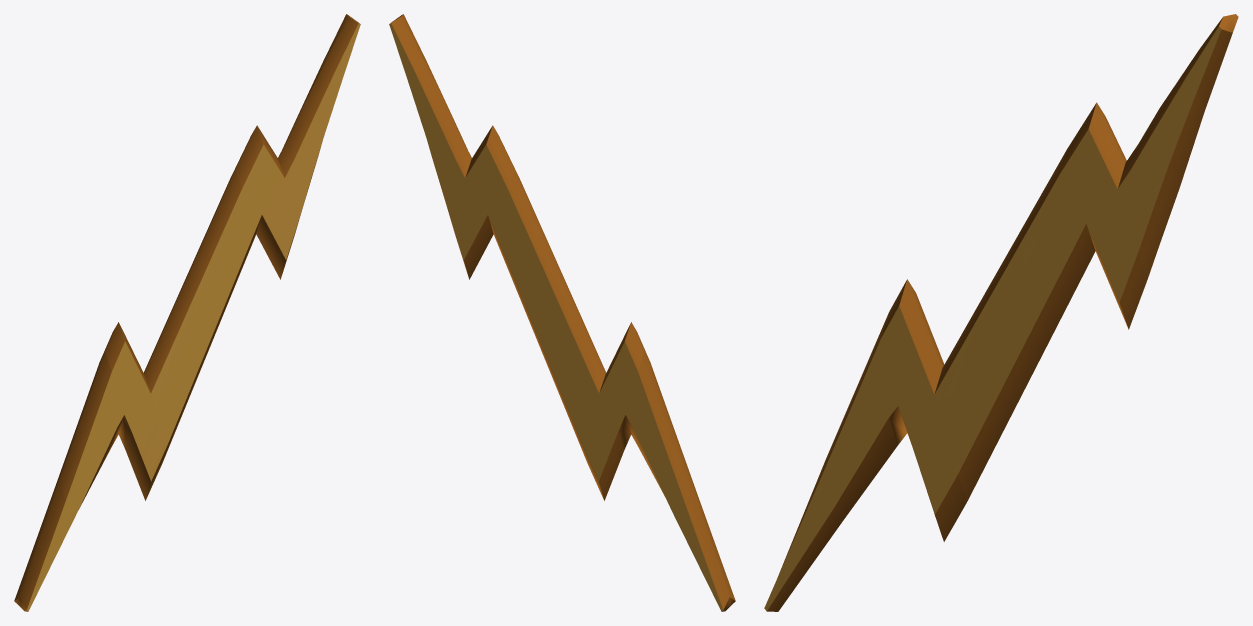
Rendered from Bolt.fbx.
The picture shows the model from 3 angles, left to right: view 1: azimuth 30°, elevation 25°; view 2: azimuth 150°, elevation 25°; view 3: azimuth 330°, elevation 25°; orthographic projection. The views are drawn at different scales.
Parts seen in each view (by area): view 1: pCube8; view 2: pCube8; view 3: pCube8.
Boxes of the visible parts, x1,y1,x2,y2 form: pCube8: [14, 14, 360, 611]; pCube8: [389, 14, 735, 611]; pCube8: [764, 14, 1238, 611].
Size of the model in its own units: 1.96 by 2.86 by 0.1256.
